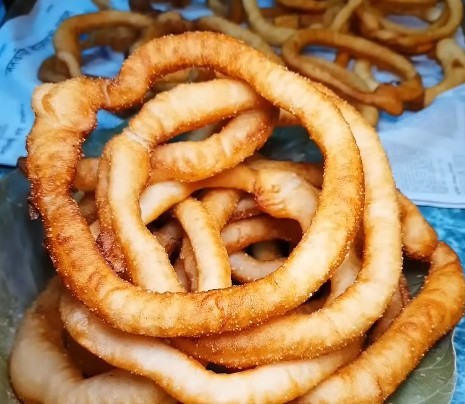sel_roti: (26, 36, 364, 336), (102, 78, 401, 345)
